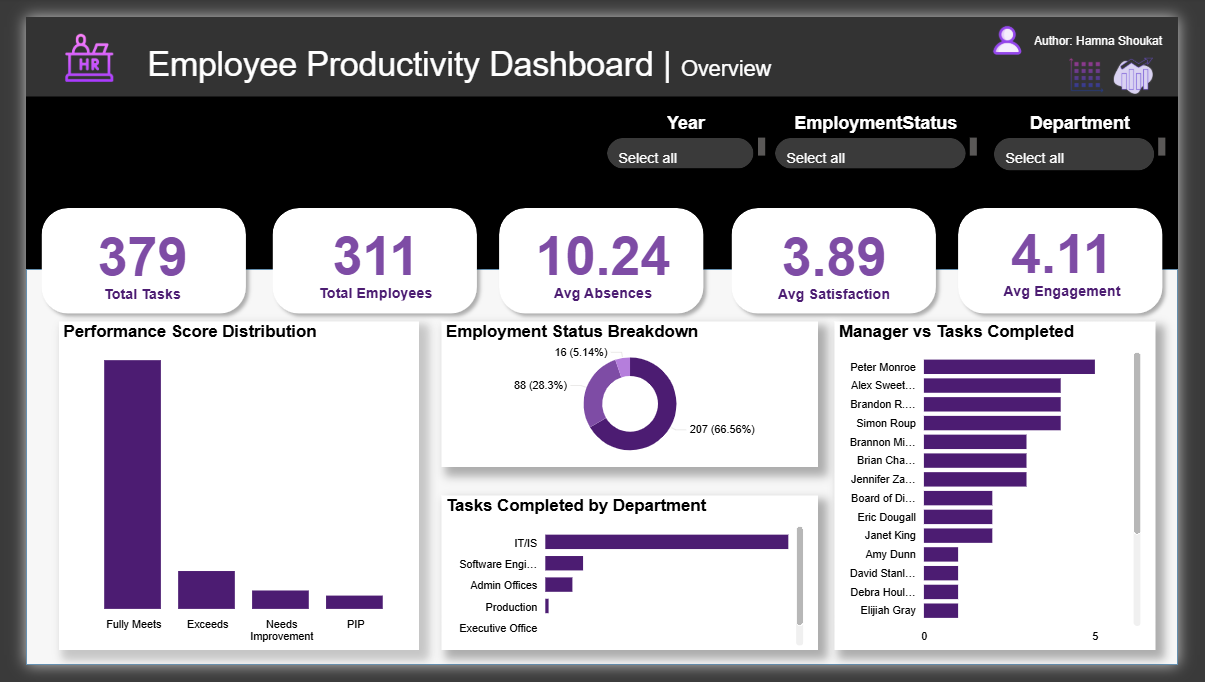

Layout of this report page (visuals, bound fields, positions):
{"tool":"powerbi","page":{"name":"Overview","canvas":[1280,720],"ordinal":0},"visuals":[{"type":"shape","box":[0,0,1280,280],"z":0},{"type":"shape","box":[0,280,1280,440],"z":1000},{"type":"shape","box":[8.3,203.3,245,135],"z":2000},{"type":"shape","box":[1026.7,203.3,245,135],"z":3000},{"type":"shape","box":[265,203.3,245,135],"z":4000},{"type":"shape","box":[516.7,203.3,245,135],"z":5000},{"type":"shape","box":[775,203.3,245,135],"z":6000},{"type":"card","fields":{"Values":["HRDataset_v14.Total Tasks"]},"box":[30,213.3,198.3,113.3],"z":7000},{"type":"card","fields":{"Values":["HRDataset_v14.Avg Engagement"]},"box":[1045,206.7,211.7,120],"z":8000},{"type":"card","fields":{"Values":["HRDataset_v14.Avg Absences"]},"box":[533.3,211.7,215,115],"z":9000},{"type":"card","fields":{"Values":["HRDataset_v14.Avg Satisfaction"]},"box":[788.3,213.3,218.3,113.3],"z":10000},{"type":"card","fields":{"Values":["HRDataset_v14.Total Employees"]},"box":[288.3,218.3,200,101.7],"z":11000},{"type":"shape","box":[36.7,338.3,400,365],"z":12000},{"type":"shape","box":[461.7,338.3,418.3,161.7],"z":13000},{"type":"shape","box":[461.7,531.7,418.3,171.7],"z":14000},{"type":"shape","box":[898.3,338.3,356.7,365],"z":15000},{"type":"columnChart","title":"Performance Score Distribution","fields":{"Category":["HRDataset_v14.PerformanceScore"],"Y":["CountNonNull(HRDataset_v14.EmpID)"]},"box":[36.7,338.3,400,365],"z":16000},{"type":"barChart","title":"Tasks Completed by Department","fields":{"Category":["HRDataset_v14.Department"],"Y":["HRDataset_v14.Total Tasks"]},"box":[461.7,531.7,406.7,171.7],"z":17000},{"type":"clusteredBarChart","title":"Manager vs Tasks Completed","fields":{"Category":["HRDataset_v14.ManagerName"],"Y":["Count(HRDataset_v14.SpecialProjectsCount)"]},"box":[898.3,338.3,345,365],"z":18000},{"type":"donutChart","title":"Employment Status Breakdown","fields":{"Category":["HRDataset_v14.EmploymentStatus"],"Y":["CountNonNull(HRDataset_v14.EmpID)"]},"box":[461.7,338.3,418.3,161.7],"z":19000},{"type":"shape","box":[0,0,1280,88.3],"z":20000},{"type":"image","box":[8.3,13.3,123.3,63.3],"z":21000},{"type":"textbox","box":[130,25,920,81.7],"z":22000},{"type":"image","box":[1065,3.3,50,45],"z":23000},{"type":"textbox","box":[1115,13.3,165,40],"z":24000},{"type":"image","box":[1151.7,40,51.7,50],"z":25000},{"type":"image","box":[1203.3,40,53.3,50],"z":26000},{"type":"advancedSlicerVisual","fields":{"Values":["HRDataset_v14.LastPerformanceReview_Date.Variation.Date Hierarchy.Year"]},"box":[640,106.7,186.7,66.7],"z":31000},{"type":"advancedSlicerVisual","fields":{"Values":["HRDataset_v14.EmploymentStatus"]},"box":[826.7,106.7,235,66.7],"z":31500},{"type":"advancedSlicerVisual","fields":{"Values":["HRDataset_v14.Department"]},"box":[1070,106.7,201.7,68.3],"z":32000}]}

Visuals, with their boxes in screenshot pixels (x1, y1, x2, y2), scaled from the page's 1280x720 canvas onto the 1205x682 screenshot:
shape: <bbox>0, 0, 1204, 265</bbox>
shape: <bbox>0, 265, 1204, 681</bbox>
shape: <bbox>8, 193, 238, 320</bbox>
shape: <bbox>967, 193, 1197, 320</bbox>
shape: <bbox>249, 193, 480, 320</bbox>
shape: <bbox>486, 193, 717, 320</bbox>
shape: <bbox>730, 193, 960, 320</bbox>
card - HRDataset_v14.Total Tasks: <bbox>28, 202, 215, 309</bbox>
card - HRDataset_v14.Avg Engagement: <bbox>984, 196, 1183, 309</bbox>
card - HRDataset_v14.Avg Absences: <bbox>502, 201, 704, 309</bbox>
card - HRDataset_v14.Avg Satisfaction: <bbox>742, 202, 948, 309</bbox>
card - HRDataset_v14.Total Employees: <bbox>271, 207, 460, 303</bbox>
shape: <bbox>35, 320, 411, 666</bbox>
shape: <bbox>435, 320, 828, 474</bbox>
shape: <bbox>435, 504, 828, 666</bbox>
shape: <bbox>846, 320, 1181, 666</bbox>
"Performance Score Distribution" columnChart: <bbox>35, 320, 411, 666</bbox>
"Tasks Completed by Department" barChart: <bbox>435, 504, 818, 666</bbox>
"Manager vs Tasks Completed" clusteredBarChart: <bbox>846, 320, 1170, 666</bbox>
"Employment Status Breakdown" donutChart: <bbox>435, 320, 828, 474</bbox>
shape: <bbox>0, 0, 1204, 84</bbox>
image: <bbox>8, 13, 124, 73</bbox>
textbox: <bbox>122, 24, 988, 101</bbox>
image: <bbox>1003, 3, 1050, 46</bbox>
textbox: <bbox>1050, 13, 1204, 50</bbox>
image: <bbox>1084, 38, 1133, 85</bbox>
image: <bbox>1133, 38, 1183, 85</bbox>
advancedSlicerVisual - HRDataset_v14.LastPerformanceReview_Date.Variation.Date Hierarchy.Year: <bbox>602, 101, 778, 164</bbox>
advancedSlicerVisual - HRDataset_v14.EmploymentStatus: <bbox>778, 101, 999, 164</bbox>
advancedSlicerVisual - HRDataset_v14.Department: <bbox>1007, 101, 1197, 166</bbox>
